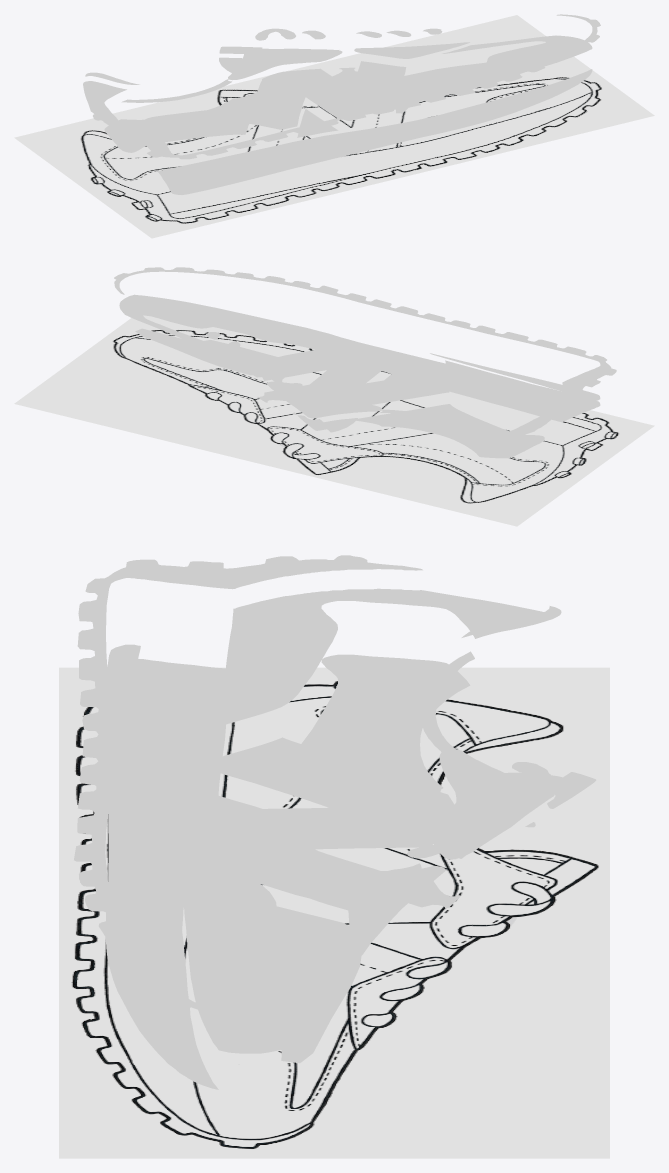
The model's file is NewBalance327.FBX.
3 views of the same model, one above another, from view 1: azimuth 30°, elevation 25°; view 2: azimuth 150°, elevation 25°; view 3: azimuth 270°, elevation 25° (orthographic). The views are drawn at different scales.
Visible parts, largest first — view 1: Plane001, Line003, Line012, Line011, Line001, Line004, Line008, Line010, Line013, Line002, Line023, Line015; view 2: Plane001, Line012, Line008, Line011, Line001, Line004, Line003, Line010, Line013, Line023, Line002, Line015; view 3: Plane001, Line003, Line012, Line008, Line011, Line001, Line004, Line010, Line013, Line002, Line023, Line015 (+1 smaller).
Boxes of the visible parts, x1,y1,x2,y2 form: Plane001: (14,15,654,238); Line003: (157,69,592,194); Line012: (245,61,406,129); Line011: (397,35,592,102); Line001: (89,14,600,159); Line004: (83,81,280,139); Line008: (104,62,485,152); Line010: (228,48,342,80); Line013: (354,42,469,58); Line002: (170,147,350,188); Line023: (255,28,442,40); Line015: (121,79,231,102); Plane001: (14,315,654,526); Line012: (258,343,449,404); Line008: (135,328,544,458); Line011: (119,294,344,343); Line001: (114,267,616,421); Line004: (445,360,562,448); Line003: (144,315,600,422); Line010: (266,381,382,418); Line013: (188,338,264,377); Line023: (206,332,319,398); Line002: (430,353,600,401); Line015: (380,409,471,438); Plane001: (59,667,609,1158); Line003: (105,659,225,1089); Line012: (190,737,454,910); Line008: (214,654,470,1063); Line011: (182,853,355,1053); Line001: (74,555,422,1022); Line004: (219,588,543,726); Line010: (430,748,555,859); Line013: (348,866,447,959); Line002: (107,644,140,815); Line023: (361,762,552,906); Line015: (420,651,474,752).
Size of the model in its own units: 253 by 30.35 by 120.
